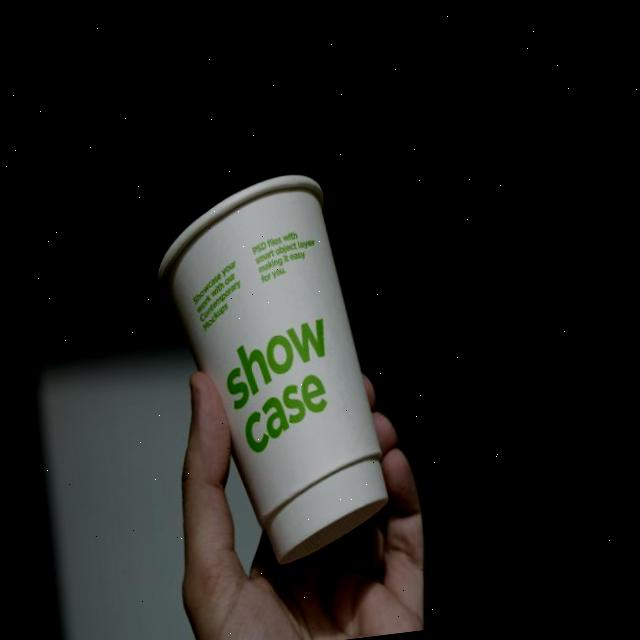trash: (140, 162, 398, 580)
